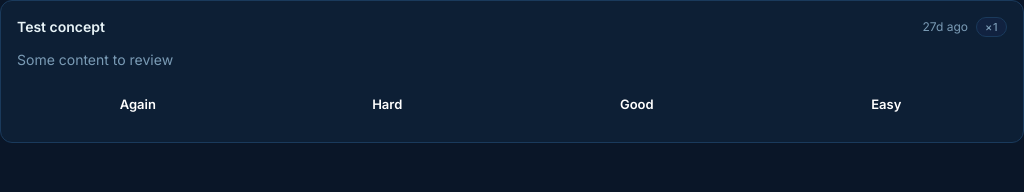
Test: ReviewCard › does NOT show "已記錄" and shows a retryable error when the API fails
This screenshot has width=1024, height=192.
Click the button "Good": (637, 104) left=516, top=82, right=758, bottom=126
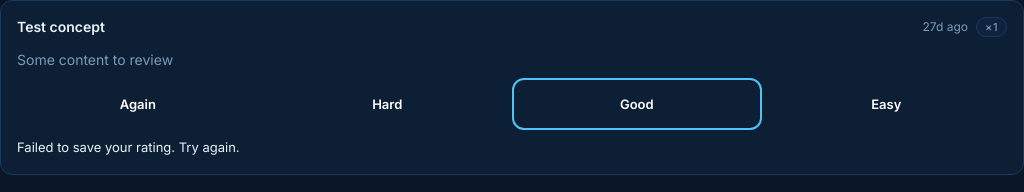
Expected: the text "Failed to save your rating. Try again." is shown, left=17, top=139, right=240, bottom=155
